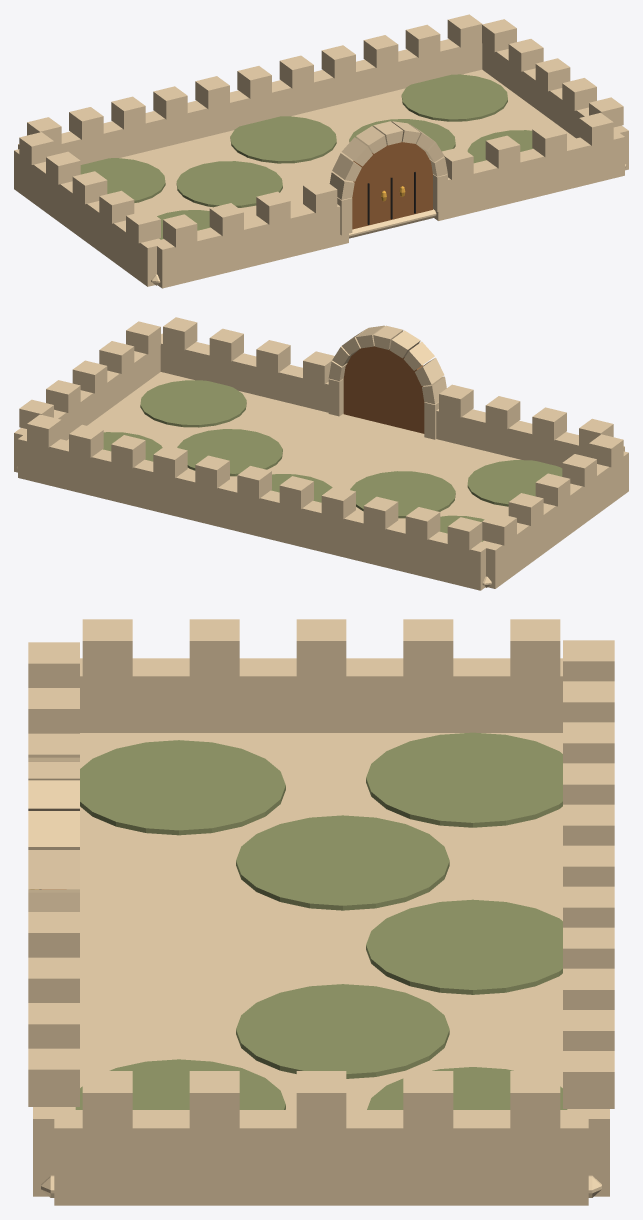
File: castle_base.glb
3 renders of one model, top to bottom at view 1: azimuth 30°, elevation 25°; view 2: azimuth 150°, elevation 25°; view 3: azimuth 270°, elevation 25°, orthographic. The views are drawn at different scales.
Parts seen in each view (by area): view 1: wall_back, courtyard_plinth, wall_front_left, wall_front_right, wall_left, wall_right, wooden_gate, gate_arch, socket_disc_2, socket_disc_3, socket_disc_4, socket_disc_1 (+3 smaller); view 2: wall_back, courtyard_plinth, wall_left, wall_front_right, wall_front_left, wall_right, wooden_gate, gate_arch, socket_disc_7, socket_disc_5, socket_disc_4, socket_disc_6 (+2 smaller); view 3: courtyard_plinth, wall_right, wall_left, wall_back, socket_disc_4, socket_disc_6, socket_disc_5, socket_disc_2, socket_disc_1, wall_front_right, gate_arch, wall_front_left (+2 smaller).
Part boxes in pixels (x1,y1,x2,y2): wall_back: (18, 14, 482, 164); courtyard_plinth: (119, 69, 626, 285); wall_front_left: (152, 180, 348, 288); wall_front_right: (434, 112, 624, 220); wall_left: (14, 132, 161, 286); wall_right: (482, 19, 628, 170); wooden_gate: (352, 142, 432, 229); gate_arch: (329, 121, 447, 235); socket_disc_2: (230, 116, 336, 163); socket_disc_3: (401, 74, 507, 121); socket_disc_4: (176, 161, 282, 207); socket_disc_1: (80, 158, 165, 202); wall_back: (18, 414, 490, 590); courtyard_plinth: (16, 372, 520, 587); wall_left: (477, 434, 628, 588); wall_front_right: (160, 317, 334, 412); wall_front_left: (436, 384, 624, 467); wall_right: (14, 321, 162, 472); wooden_gate: (343, 346, 424, 433); gate_arch: (328, 325, 446, 439); socket_disc_7: (140, 380, 246, 427); socket_disc_5: (177, 429, 282, 476); socket_disc_4: (350, 471, 455, 518); socket_disc_6: (467, 460, 562, 506); courtyard_plinth: (41, 733, 601, 1197); wall_right: (54, 1071, 588, 1205); wall_left: (80, 619, 562, 732); wall_back: (563, 640, 614, 1196); socket_disc_4: (236, 815, 449, 910); socket_disc_6: (80, 740, 285, 835); socket_disc_5: (236, 984, 449, 1078); socket_disc_2: (366, 899, 562, 994); socket_disc_1: (366, 732, 562, 827); wall_front_right: (28, 912, 79, 1196); gate_arch: (28, 757, 79, 911); wall_front_left: (28, 642, 79, 757).
Bounding box in the file's own units: 6.29 × 1.24 × 3.29.
